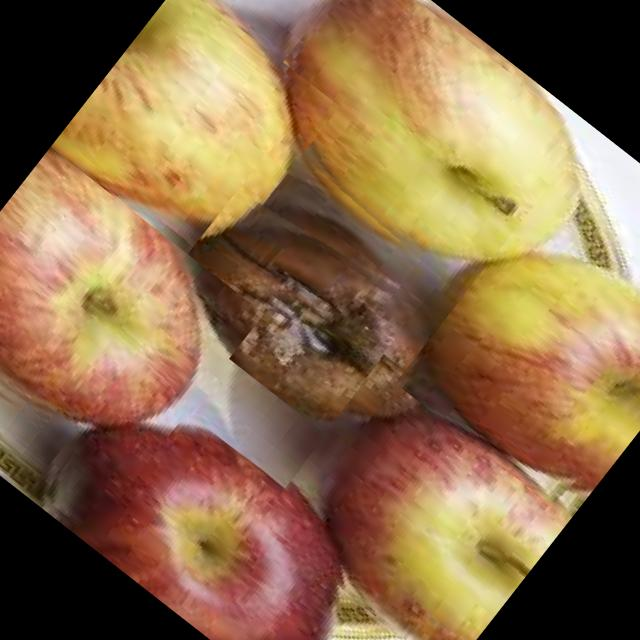Organic: (234, 0, 614, 318), (152, 164, 494, 484), (30, 370, 385, 640), (249, 353, 580, 640), (0, 147, 263, 498), (394, 201, 640, 520), (54, 0, 338, 265)
